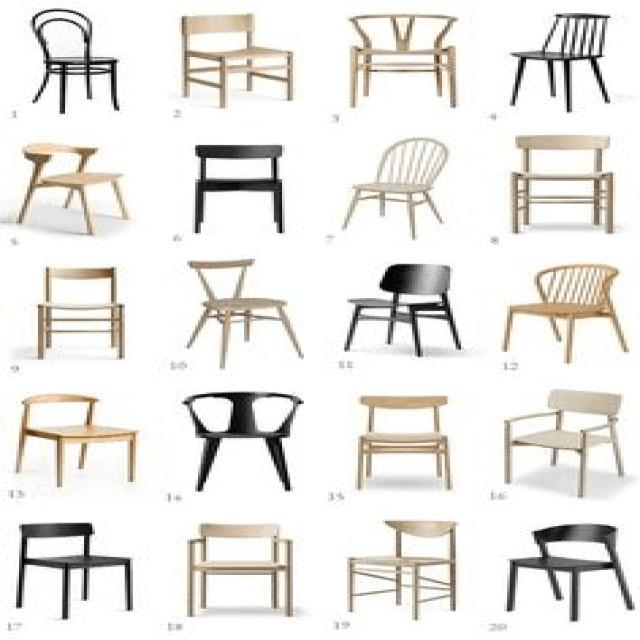chair: (496, 386, 636, 502), (494, 256, 636, 360), (0, 386, 153, 482), (502, 518, 640, 624), (16, 508, 145, 612), (178, 142, 304, 248), (163, 14, 307, 106), (510, 130, 640, 231), (186, 256, 312, 360), (177, 388, 303, 490), (506, 3, 628, 104), (340, 392, 458, 494), (13, 4, 124, 112), (343, 126, 471, 218), (328, 16, 468, 100), (348, 520, 466, 616), (41, 256, 145, 360), (16, 144, 145, 225), (351, 258, 464, 350), (182, 524, 296, 610), (16, 516, 147, 579), (174, 384, 302, 448), (2, 390, 148, 446), (507, 128, 624, 194), (344, 387, 452, 458), (360, 138, 458, 207), (504, 12, 632, 64), (15, 5, 124, 64), (508, 260, 626, 310), (348, 12, 466, 60), (190, 256, 289, 312), (22, 138, 126, 191), (349, 519, 461, 565), (356, 260, 454, 312), (511, 524, 626, 568), (182, 142, 284, 190), (50, 260, 137, 310), (192, 524, 282, 572), (186, 15, 284, 57)
